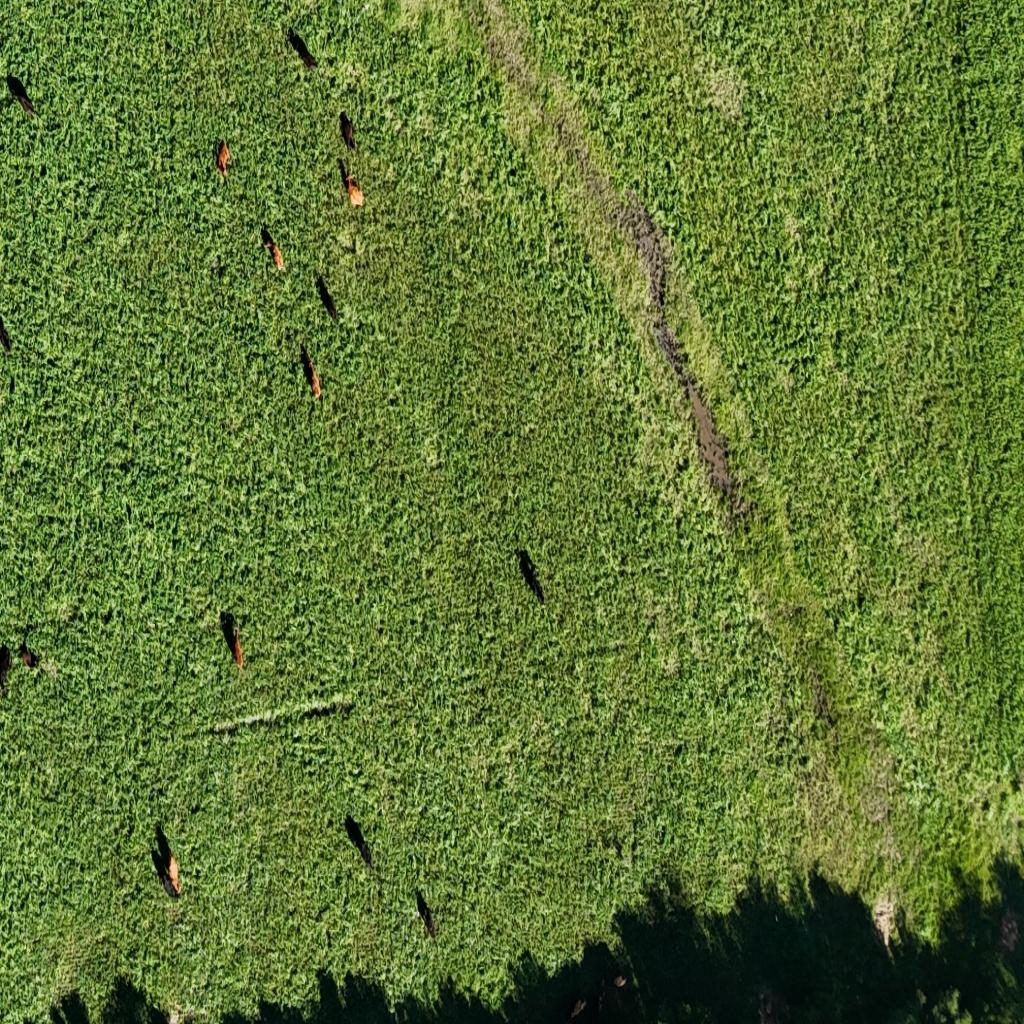cow: (346, 813, 375, 872), (153, 843, 182, 901), (518, 547, 545, 604), (4, 72, 37, 117), (287, 27, 319, 70), (221, 612, 245, 669), (300, 345, 322, 399), (416, 888, 438, 940), (316, 276, 338, 326), (15, 629, 38, 672), (261, 227, 283, 271), (339, 110, 357, 152), (344, 172, 364, 208), (0, 644, 12, 698), (0, 313, 14, 358), (217, 139, 231, 179), (339, 154, 353, 190)
